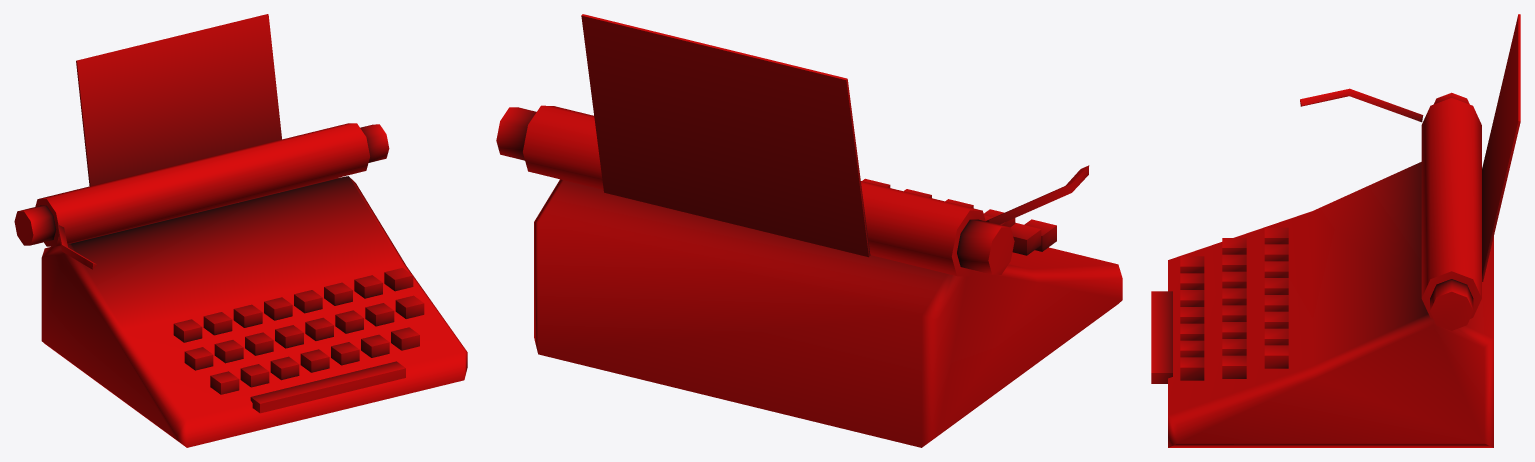
File: CI_Office_Typewriter.glb
The picture shows the model from 3 angles, left to right: view 1: azimuth 30°, elevation 25°; view 2: azimuth 150°, elevation 25°; view 3: azimuth 270°, elevation 25°; orthographic projection. The views are drawn at different scales.
Parts seen in each view (by area): view 1: CI_Office_Typewriter; view 2: CI_Office_Typewriter; view 3: CI_Office_Typewriter.
Boxes of the visible parts, x1,y1,x2,y2 form: CI_Office_Typewriter: [14, 14, 467, 447]; CI_Office_Typewriter: [496, 14, 1122, 447]; CI_Office_Typewriter: [1151, 14, 1520, 447].
Size of the model in its own units: 0.397 by 0.2769 by 0.3062.
